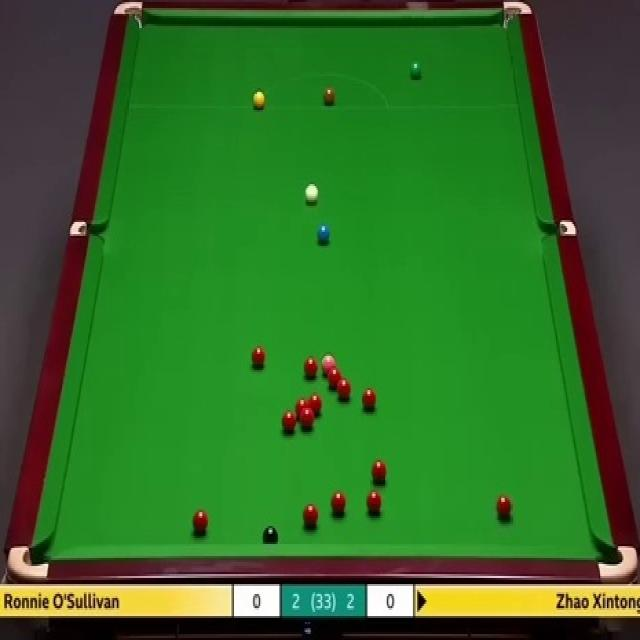black-ball: (265, 524, 281, 547)
blue-ball: (318, 225, 330, 244)
brown-ball: (322, 87, 335, 106)
green-ball: (408, 60, 423, 82)
pink-ball: (320, 352, 336, 374)
red-ball: (365, 488, 383, 516), (495, 494, 513, 520), (370, 458, 387, 485), (301, 504, 320, 528), (250, 344, 266, 370), (331, 488, 347, 514), (192, 508, 208, 533), (336, 379, 352, 404), (303, 355, 318, 379), (362, 387, 377, 411), (309, 392, 324, 416), (281, 410, 297, 432), (300, 405, 314, 429), (327, 368, 342, 386), (296, 397, 309, 415)
white-ball: (304, 182, 320, 206)
yellow-ball: (252, 88, 265, 110)
